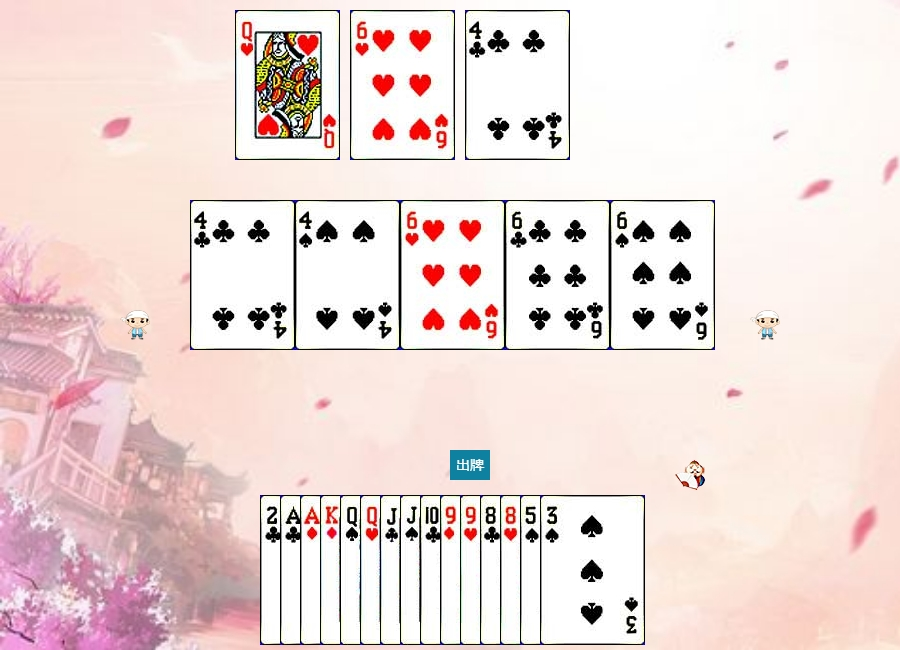10~2: (420, 495, 525, 645)
11~2: (380, 495, 485, 645)
11~4: (400, 495, 505, 645)
12~3: (235, 10, 340, 160), (360, 495, 465, 645)
12~4: (340, 495, 445, 645)
13~1: (320, 495, 425, 645)
14~1: (300, 495, 405, 645)
14~2: (280, 495, 385, 645)
15~2: (260, 495, 365, 645)
3~4: (540, 495, 645, 645)
4~2: (465, 10, 570, 160), (190, 200, 295, 350)
4~4: (295, 200, 400, 350)
5~4: (520, 495, 625, 645)
6~2: (505, 200, 610, 350)
6~3: (350, 10, 455, 160), (400, 200, 505, 350)
6~4: (610, 200, 715, 350)
8~2: (480, 495, 585, 645)
8~3: (500, 495, 605, 645)
9~1: (440, 495, 545, 645)
9~3: (460, 495, 565, 645)
